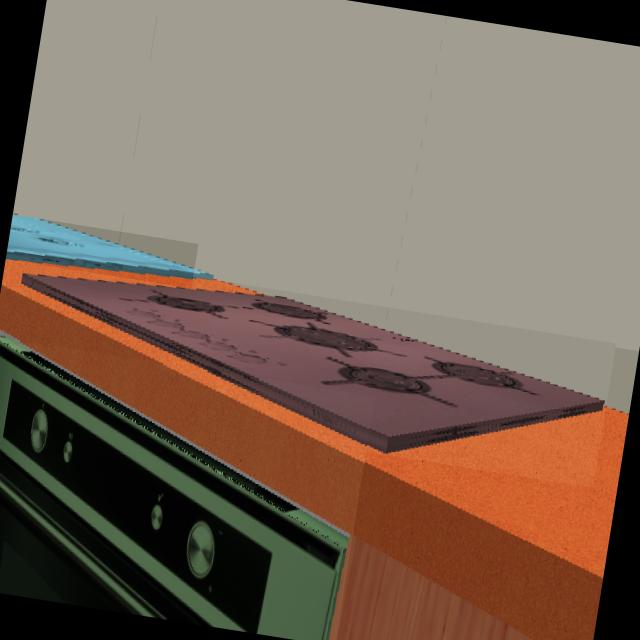countertop: (0, 259, 629, 640)
oven: (0, 339, 351, 640)
sink: (6, 215, 193, 278)
stove: (1, 259, 605, 456)
